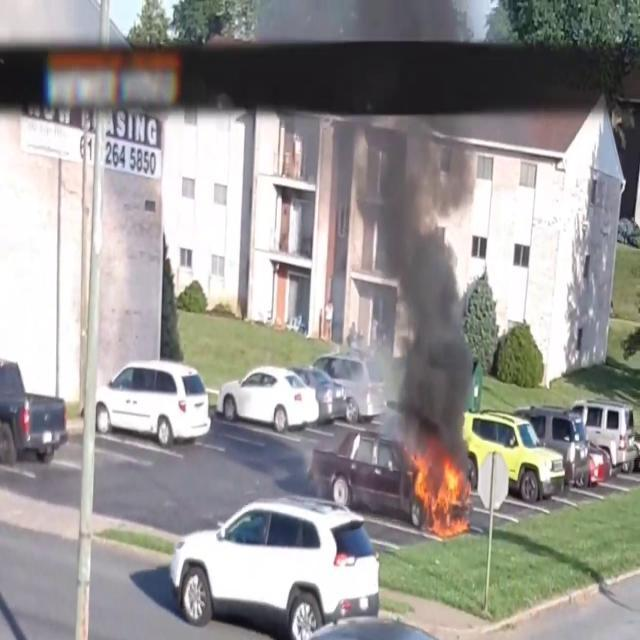Fire: (407, 446, 471, 534)
Smoke: (342, 118, 483, 450)
